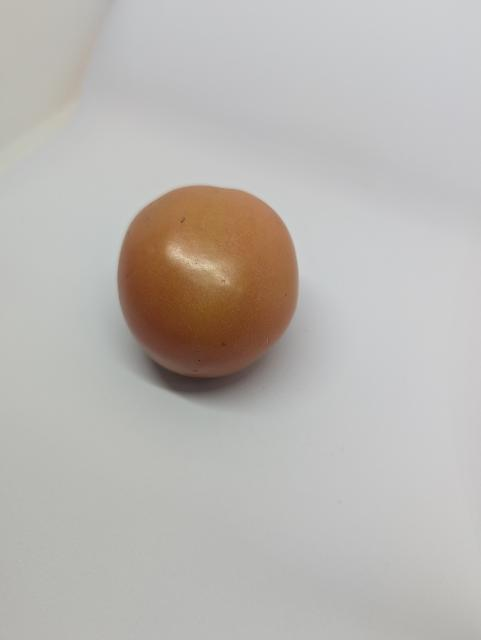turning: (114, 183, 307, 393)
